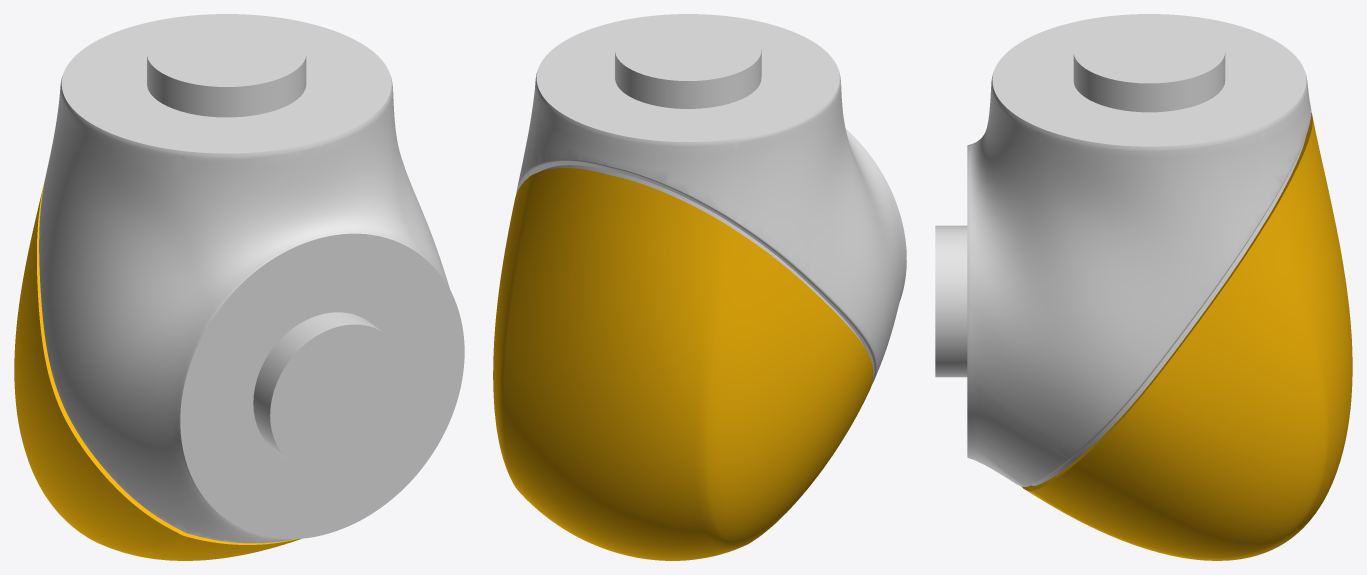
3 renders of one model, left to right at view 1: azimuth 30°, elevation 25°; view 2: azimuth 150°, elevation 25°; view 3: azimuth 270°, elevation 25°, orthographic. The views are drawn at different scales.
Parts seen in each view (by area): view 1: node0, node1; view 2: node1, node0; view 3: node0, node1.
Boxes of the visible parts, x1,y1,x2,y2 form: node0: (39, 14, 464, 543); node1: (14, 178, 301, 560); node1: (493, 168, 873, 560); node0: (516, 14, 906, 384); node0: (935, 14, 1311, 486); node1: (1021, 112, 1352, 560).
Size of the model in its own units: 0.1323 by 0.1374 by 0.1774.
